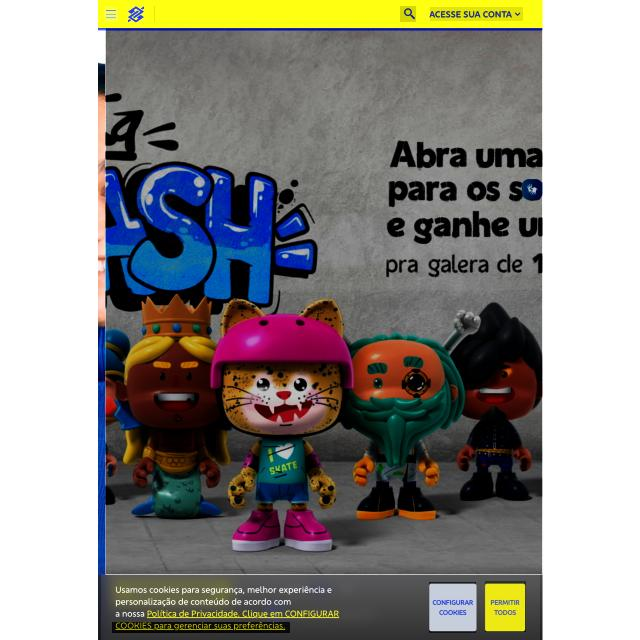CheckBox: (429, 582, 476, 633), (485, 581, 526, 632), (112, 622, 290, 633)
alert: (430, 7, 523, 21)
bag: (97, 0, 543, 29)
card: (106, 28, 542, 574)
carousel: (400, 6, 416, 22)
date picker: (126, 3, 147, 25)
decoration: (104, 7, 118, 22)
header: (101, 574, 540, 640)
